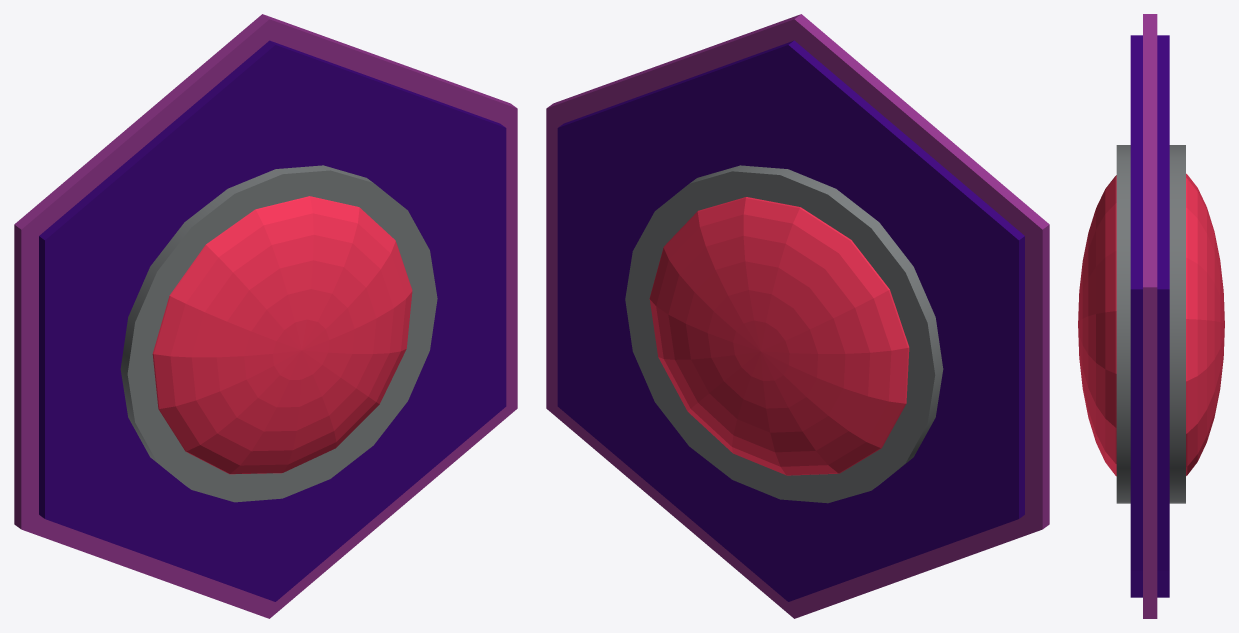
The model's file is Updated Currency Chip 2.fbx.
3 renders of one model, left to right at view 1: azimuth 30°, elevation 25°; view 2: azimuth 150°, elevation 25°; view 3: azimuth 270°, elevation 25°, orthographic.
Parts seen in each view (by area): view 1: Piece_Base, Center_Piece, Outer_Piece; view 2: Piece_Base, Center_Piece, Outer_Piece; view 3: Piece_Base, Center_Piece, Outer_Piece.
Part boxes in pixels (x1,y1,x2,y2): Piece_Base: [39, 40, 506, 601]; Center_Piece: [152, 196, 412, 474]; Outer_Piece: [14, 14, 517, 618]; Piece_Base: [557, 40, 1024, 601]; Center_Piece: [649, 197, 909, 475]; Outer_Piece: [546, 14, 1049, 618]; Piece_Base: [1116, 35, 1185, 597]; Center_Piece: [1078, 173, 1224, 476]; Outer_Piece: [1143, 14, 1157, 618].
Bounding box in the file's own units: 0.7559 × 0.8729 × 0.1921.
